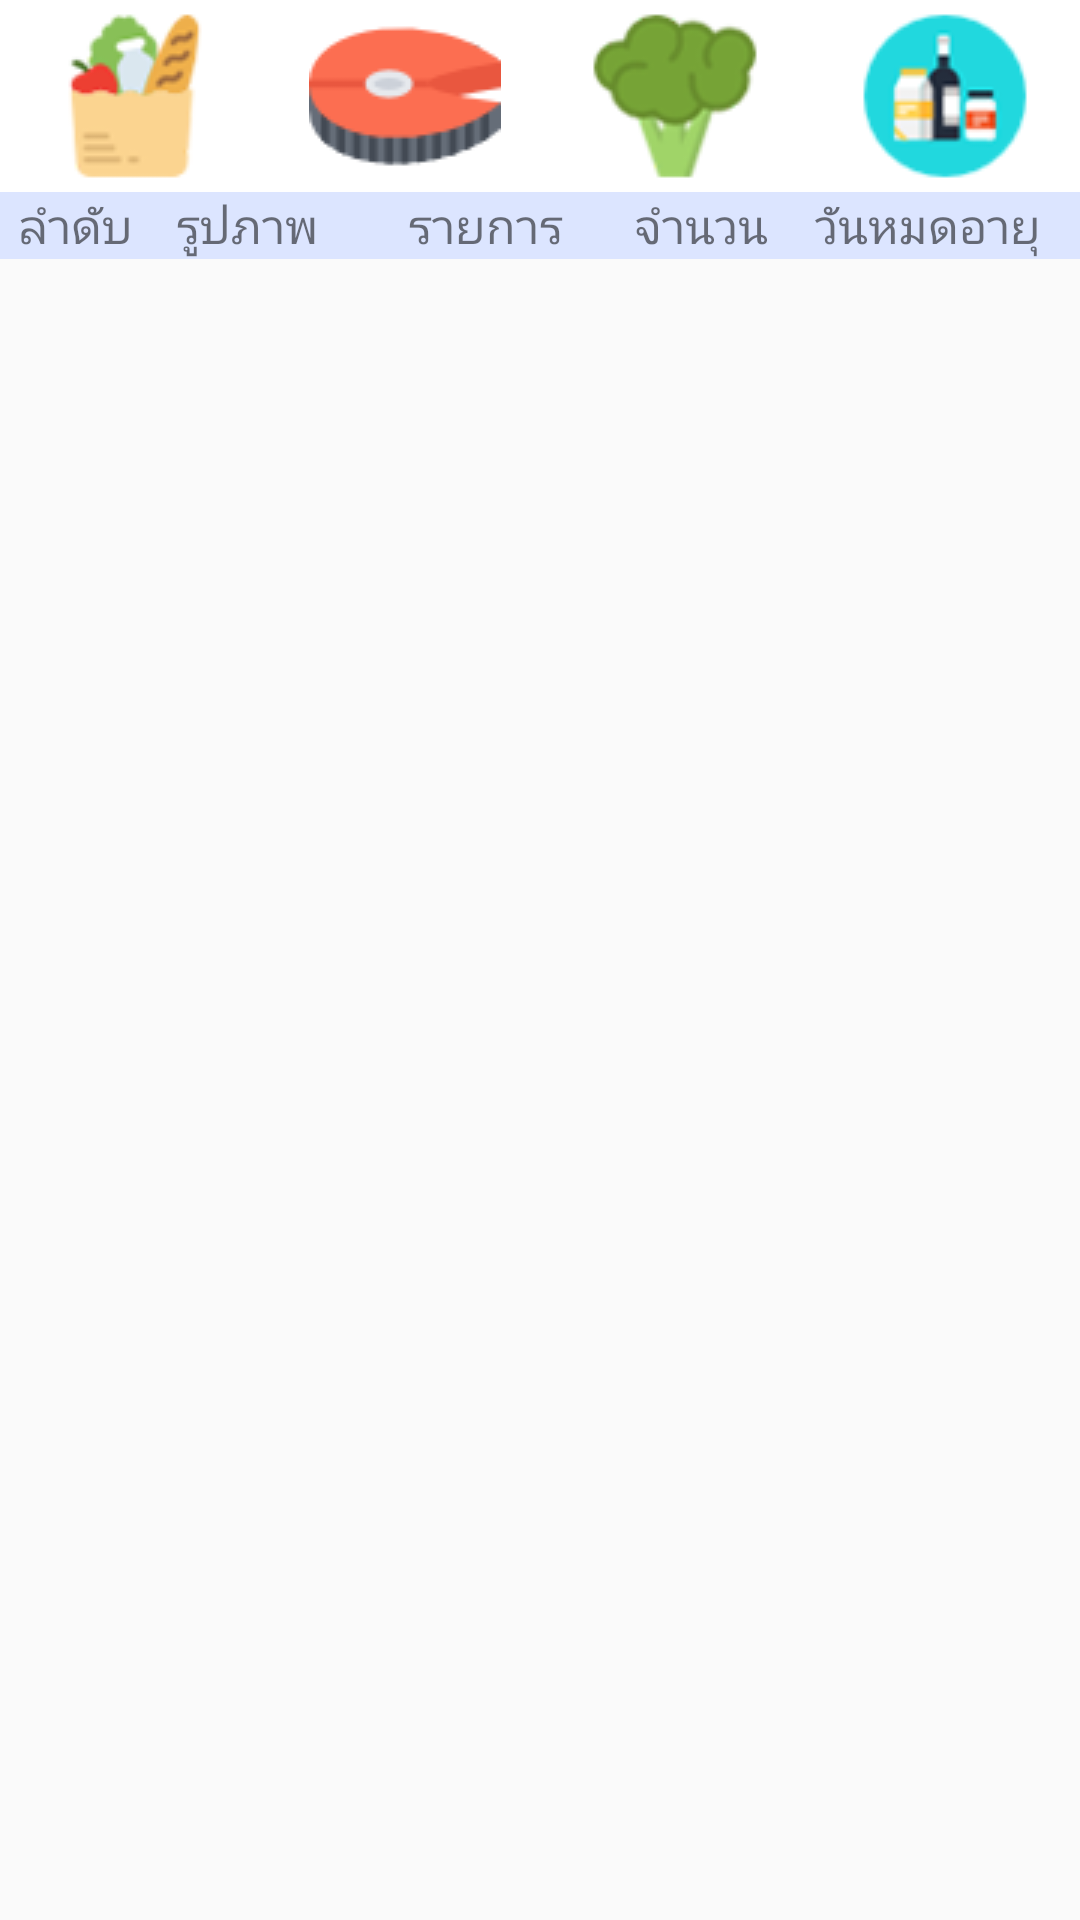

Named icons in this screenshot (1080px x 1920px) and their bounding boxes, (x1, y1, x2, y2):
broccoli: (593, 14, 757, 178)
groceries: (70, 14, 200, 178)
